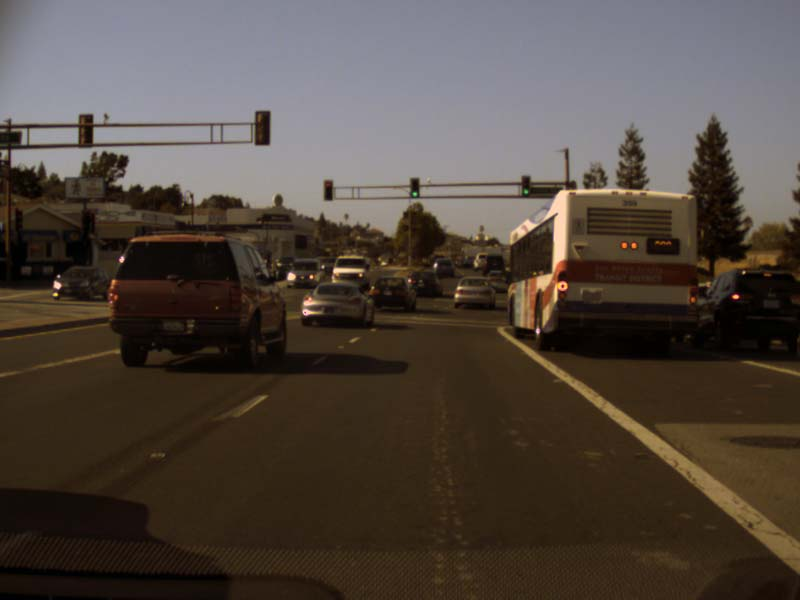Green: (520, 175, 531, 197), (409, 177, 419, 197)
Red: (324, 179, 332, 199)
